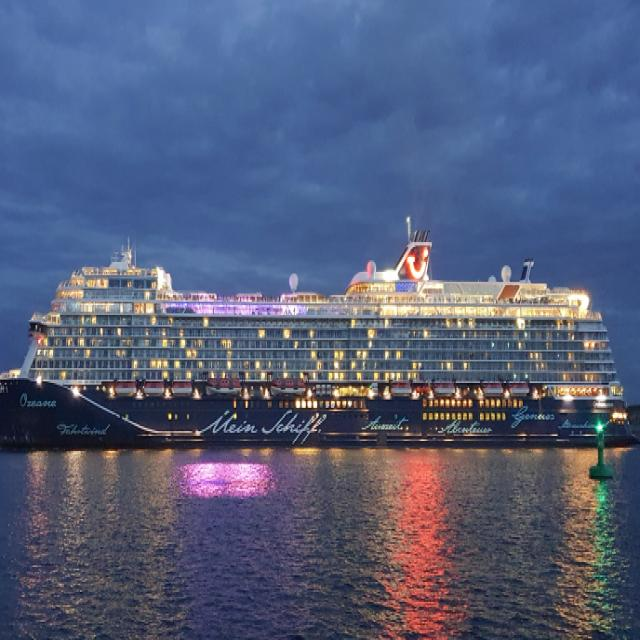cruises: (1, 210, 640, 455)
